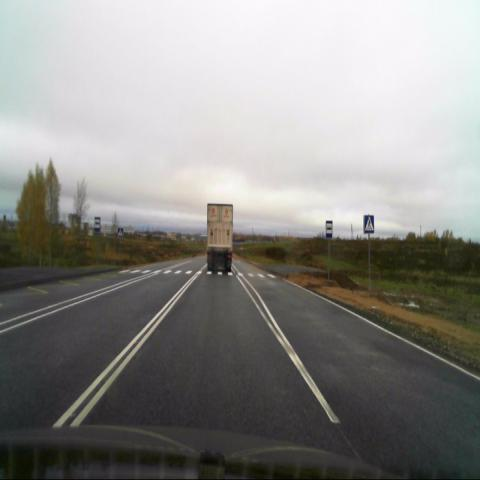5_16: (94, 217, 101, 234), (326, 220, 332, 237)
5_19_1: (364, 215, 374, 234)
